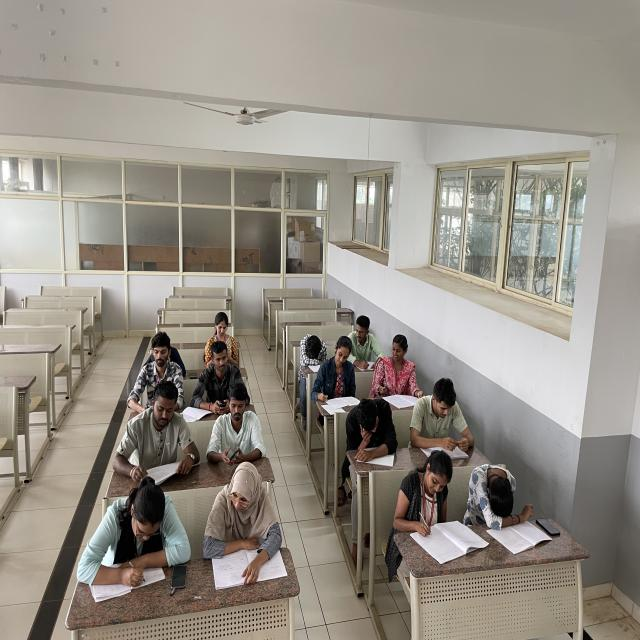Reading: (200, 462, 284, 578), (120, 381, 196, 476)
Sleeping: (464, 458, 526, 524), (298, 329, 330, 368)
Using Phone: (210, 394, 268, 469), (190, 338, 246, 410), (342, 395, 402, 459), (201, 308, 244, 362)
Writing: (83, 491, 177, 597), (395, 451, 469, 547), (316, 334, 360, 412), (346, 315, 385, 374)
